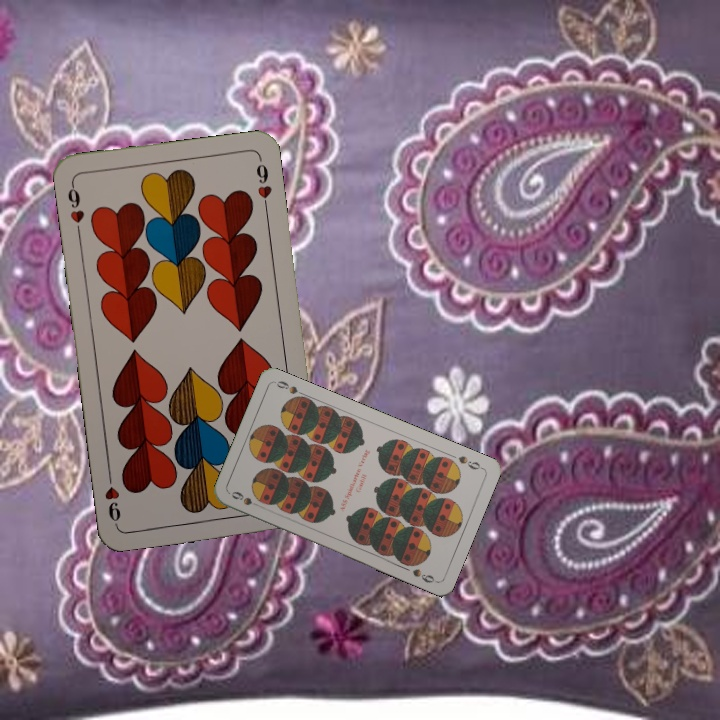H9: (63, 179, 87, 238)
S9: (454, 451, 486, 472), (227, 487, 255, 508)
